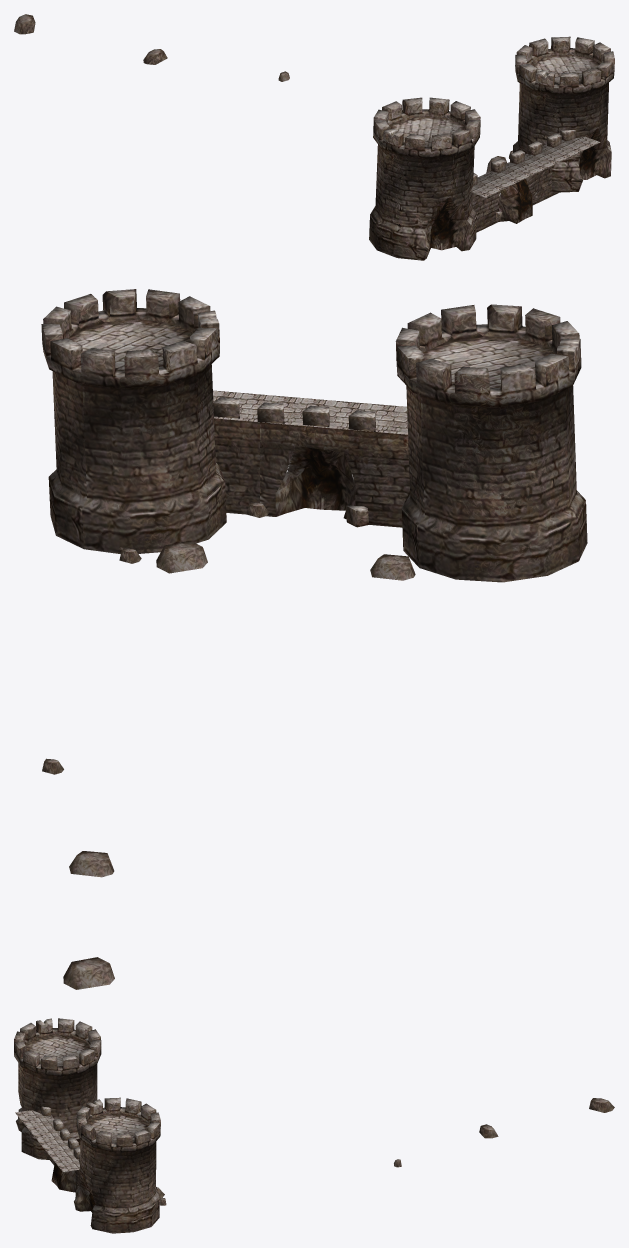
Rendered from mesh_chapter5_boss_towerProp_01.FBX.
3 views of the same model, one above another, from view 1: azimuth 30°, elevation 25°; view 2: azimuth 150°, elevation 25°; view 3: azimuth 270°, elevation 25° (orthographic). The views are drawn at different scales.
Parts seen in each view (by area): view 1: mesh_chapter5_boss_towerProp_01; view 2: mesh_chapter5_boss_towerProp_01; view 3: mesh_chapter5_boss_towerProp_01.
Boxes of the visible parts, <box> form: mesh_chapter5_boss_towerProp_01: <box>14,14,614,260</box>; mesh_chapter5_boss_towerProp_01: <box>41,289,587,989</box>; mesh_chapter5_boss_towerProp_01: <box>14,1018,614,1233</box>.
Bounding box in the file's own units: 44.4 × 16.96 × 86.12.
